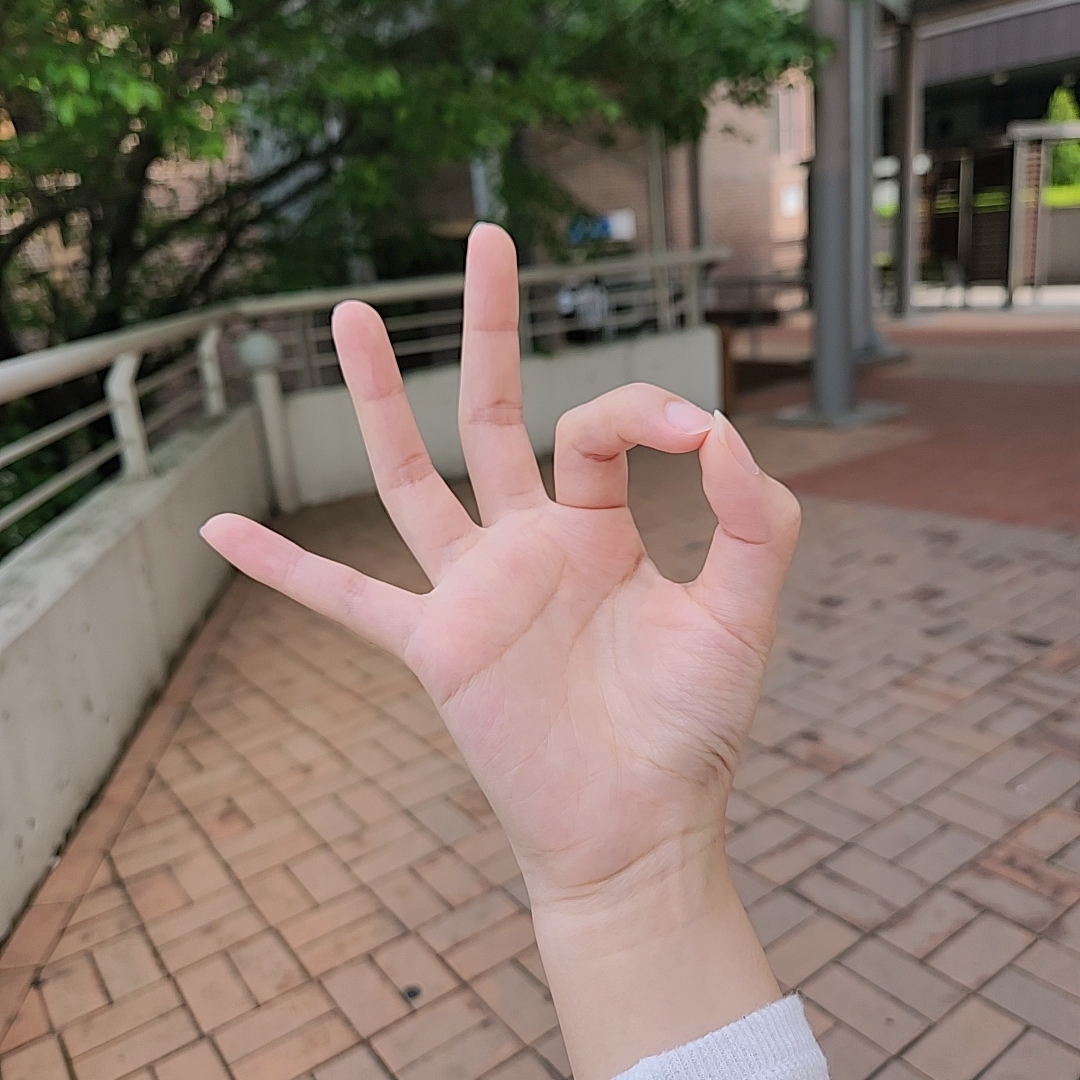see: (197, 221, 802, 862)
